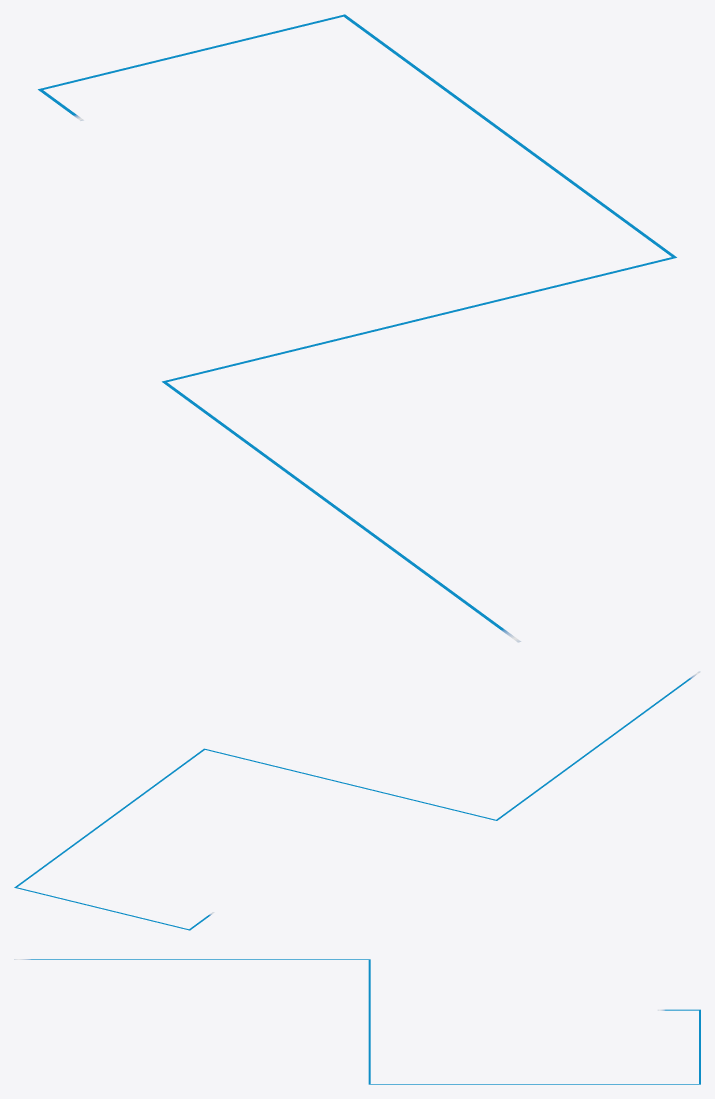
Rendered from Jpod_to_CinciFetalCare.fbx.
3 views of the same model, one above another, from view 1: azimuth 30°, elevation 25°; view 2: azimuth 150°, elevation 25°; view 3: azimuth 270°, elevation 25° (orthographic). The views are drawn at different scales.
Parts seen in each view (by area): view 1: Jpod_to_CinciFetalCare; view 2: Jpod_to_CinciFetalCare; view 3: Jpod_to_CinciFetalCare.
Part boxes in pixels (x1,y1,x2,y2): Jpod_to_CinciFetalCare: (38,14,676,642); Jpod_to_CinciFetalCare: (14,671,700,930); Jpod_to_CinciFetalCare: (14,959,700,1084).
Size of the model in its own units: 7.18 by 0 by 16.61.
Materials: 1 (1 with a texture image).
